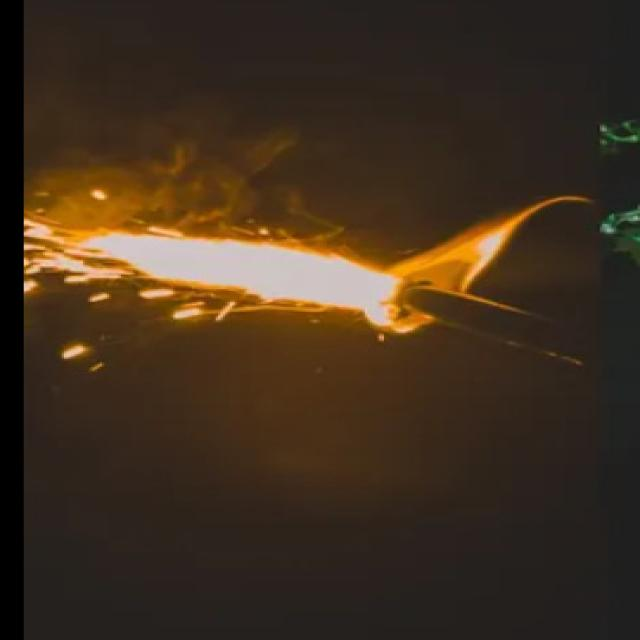fire: (24, 220, 409, 329), (392, 197, 588, 333)
